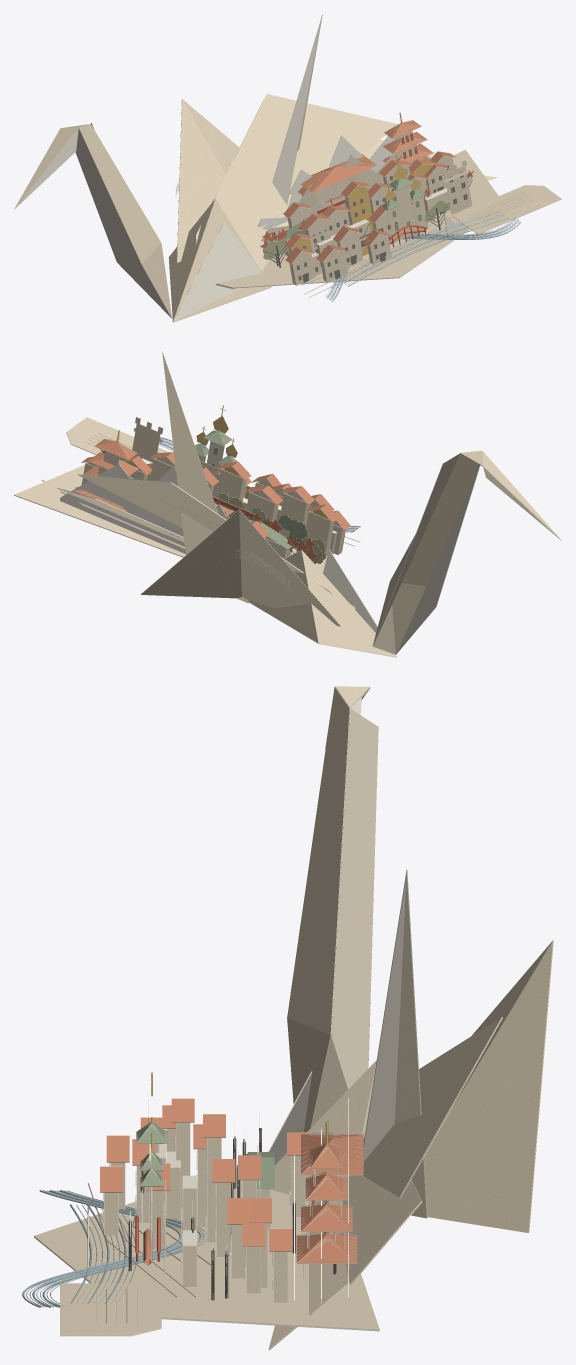
The model's file is fold-master.glb.
3 views of the same model, one above another, from view 1: azimuth 30°, elevation 25°; view 2: azimuth 150°, elevation 25°; view 3: azimuth 270°, elevation 25° (orthographic). The views are drawn at different scales.
Visible parts, largest first — view 1: almaty exterior folio, Wing continuous lower paper, Far wing mountain, Beak upper face, Body facing folds, Beak lower face, Body central pleat, Die-cut story leaf, Tail folded return, Folded mountain silhouette, Printed river contour.009, Cathedral central tower (+13 smaller); view 2: Far wing mountain, Beak upper face, Body facing folds, almaty exterior folio, Tail long folded sail, Folded mountain silhouette, Beak inner ridge, Wing continuous lower paper, Beak lower face, Die-cut story leaf, Four folded roof pitches, Body central pleat (+11 smaller); view 3: Far wing mountain, Wing continuous lower paper, Beak inner ridge, Beak upper face, almaty exterior folio, Die-cut story leaf, Four folded roof pitches, Tail folded return, Tail long folded sail, lisbon exterior folio, Body facing folds, Printed river contour (+9 smaller).
Part boxes in pixels (bbox=[...]): almaty exterior folio: bbox=[195, 94, 398, 243]; Wing continuous lower paper: bbox=[215, 149, 498, 288]; Far wing mountain: bbox=[177, 99, 239, 262]; Beak upper face: bbox=[14, 124, 172, 318]; Body facing folds: bbox=[168, 199, 271, 321]; Beak lower face: bbox=[15, 128, 170, 317]; Body central pleat: bbox=[173, 222, 261, 322]; Die-cut story leaf: bbox=[453, 185, 561, 234]; Tail folded return: bbox=[272, 16, 322, 213]; Folded mountain silhouette: bbox=[257, 136, 431, 229]; Printed river contour.009: bbox=[338, 211, 508, 286]; Cathedral central tower: bbox=[386, 185, 428, 242]; Far wing mountain: bbox=[141, 509, 340, 626]; Beak upper face: bbox=[392, 450, 561, 653]; Body facing folds: bbox=[248, 550, 396, 657]; almaty exterior folio: bbox=[78, 474, 333, 594]; Tail long folded sail: bbox=[162, 352, 248, 603]; Folded mountain silhouette: bbox=[60, 464, 224, 553]; Beak inner ridge: bbox=[372, 453, 561, 654]; Wing continuous lower paper: bbox=[14, 465, 355, 609]; Beak lower face: bbox=[396, 464, 480, 654]; Die-cut story leaf: bbox=[66, 417, 169, 454]; Four folded roof pitches: bbox=[74, 439, 138, 511]; Body central pleat: bbox=[323, 549, 395, 655]; Far wing mountain: bbox=[424, 940, 553, 1232]; Wing continuous lower paper: bbox=[34, 1167, 379, 1331]; Beak inner ridge: bbox=[311, 689, 378, 1127]; Beak upper face: bbox=[287, 686, 370, 1132]; almaty exterior folio: bbox=[363, 1017, 502, 1198]; Die-cut story leaf: bbox=[60, 1283, 161, 1336]; Four folded roof pitches: bbox=[296, 1144, 357, 1263]; Tail folded return: bbox=[361, 870, 407, 1177]; Tail long folded sail: bbox=[394, 870, 427, 1218]; lisbon exterior folio: bbox=[339, 1175, 421, 1284]; Body facing folds: bbox=[273, 1060, 376, 1195]; Printed river contour: bbox=[22, 1190, 206, 1307].
Size of the model in its own units: 8.2 by 3.98 by 3.92.
Materials: 15 (1 with a texture image).
